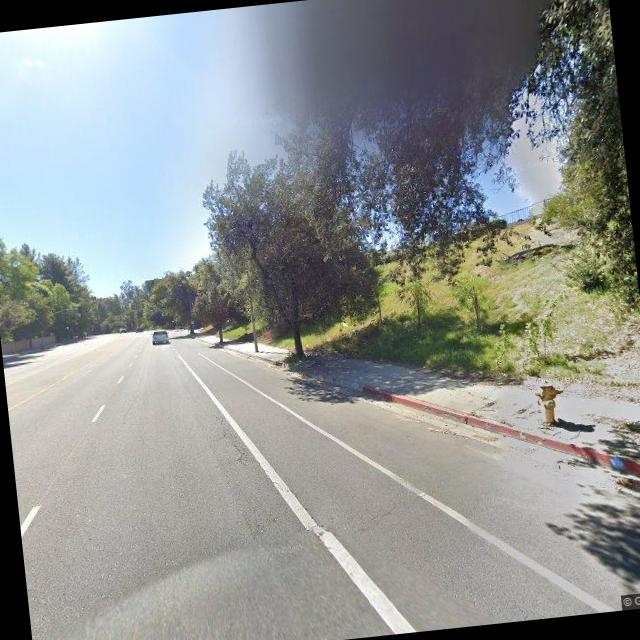crack: (212, 410, 250, 470)
